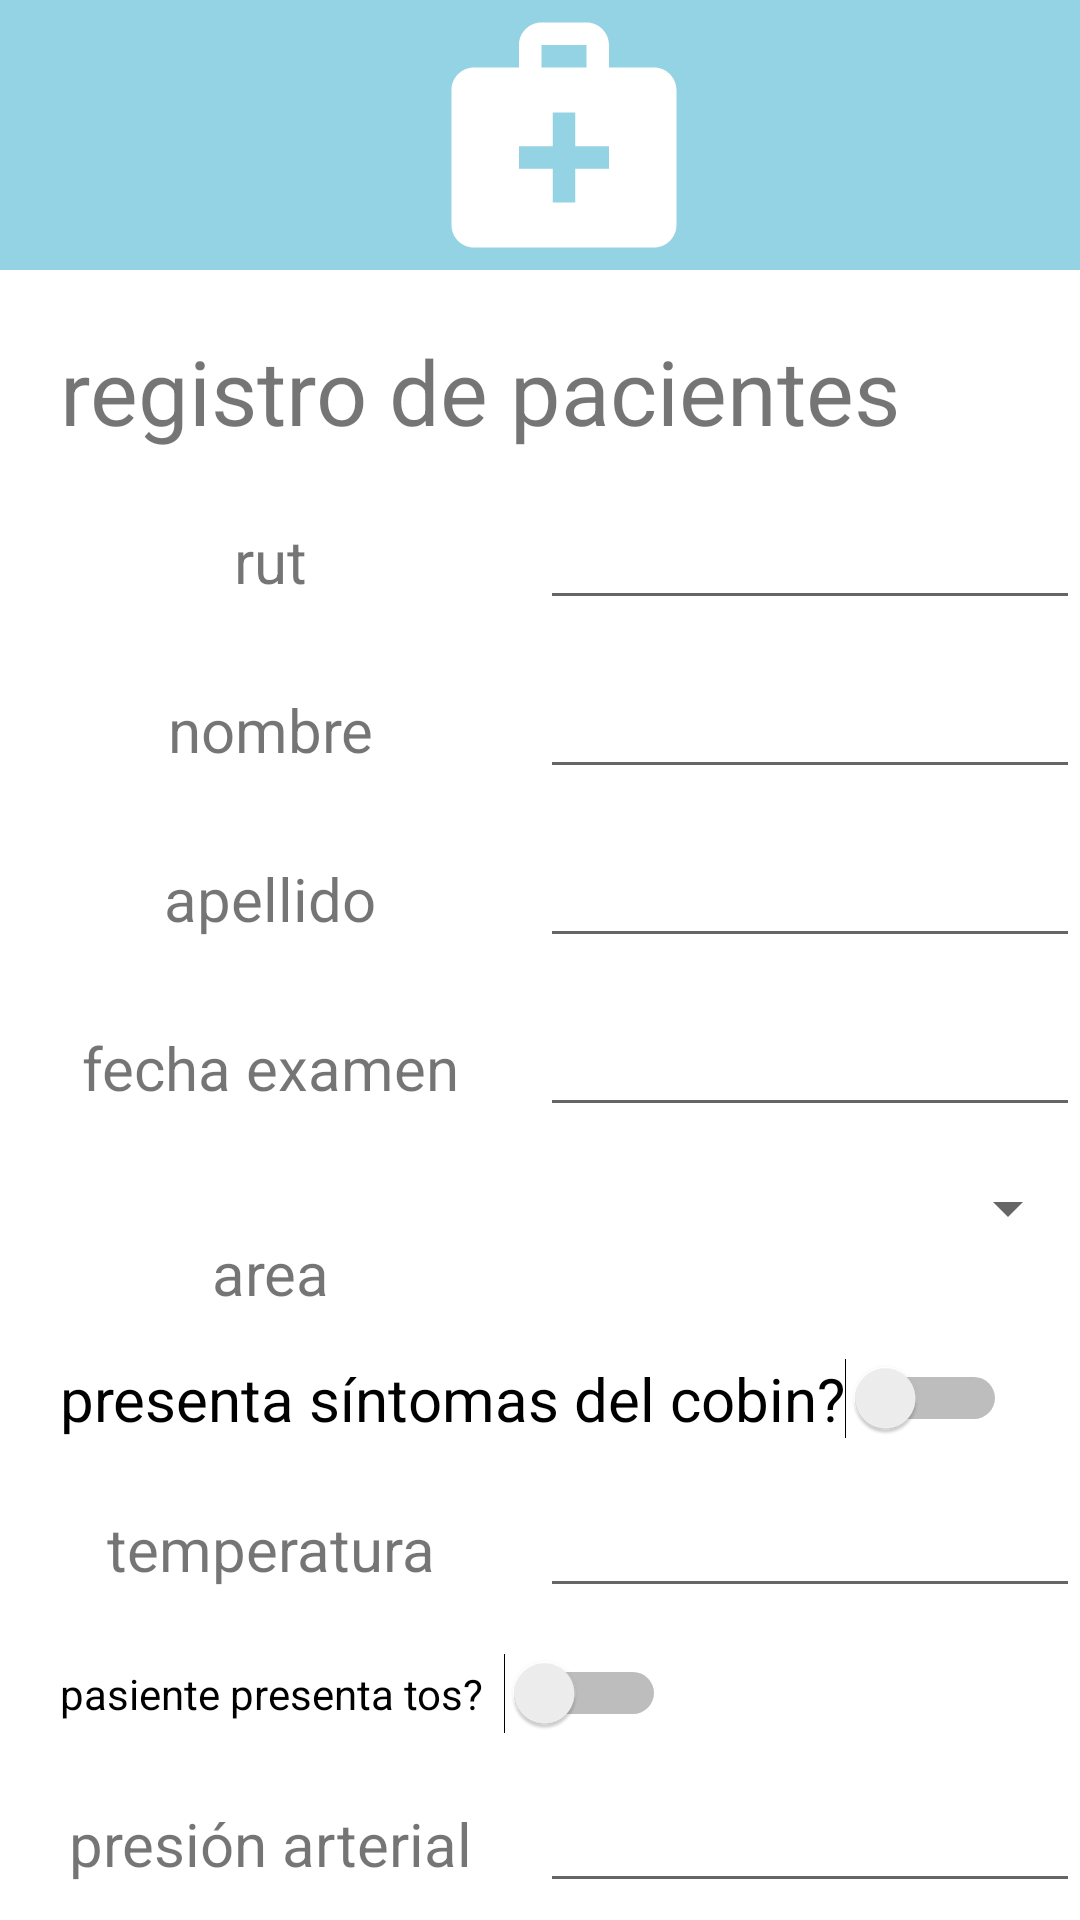

Named icons in this screenshot (1080px×1920px) and their bounding boxes, (x1, y1, x2, y2):
medical services: (451, 22, 677, 248)
